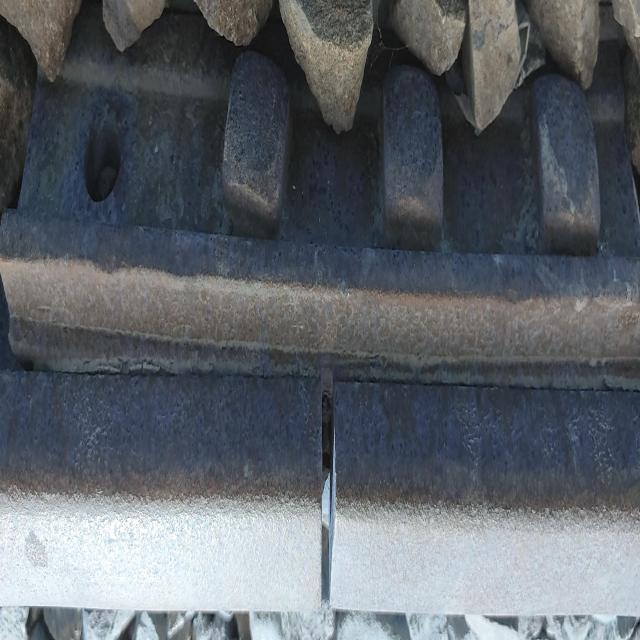Defective Joint: (0, 38, 640, 373)
